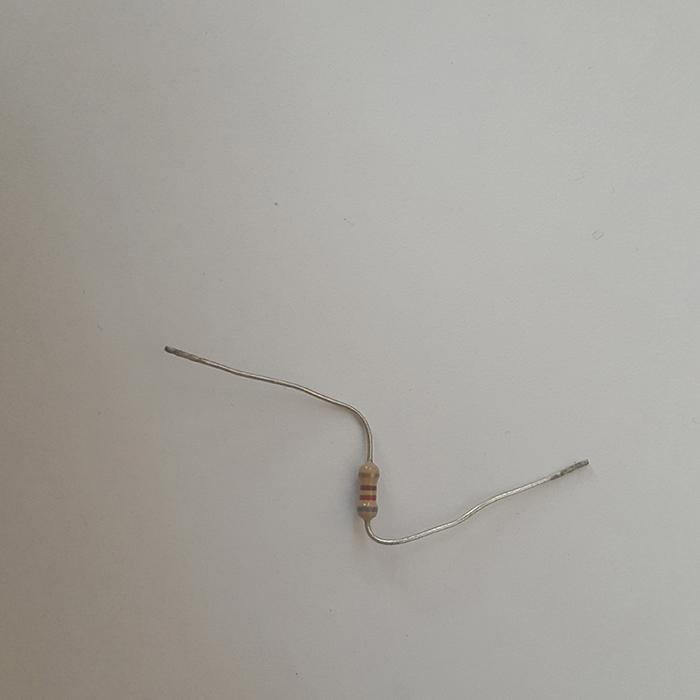resistor: (357, 460, 381, 525)
